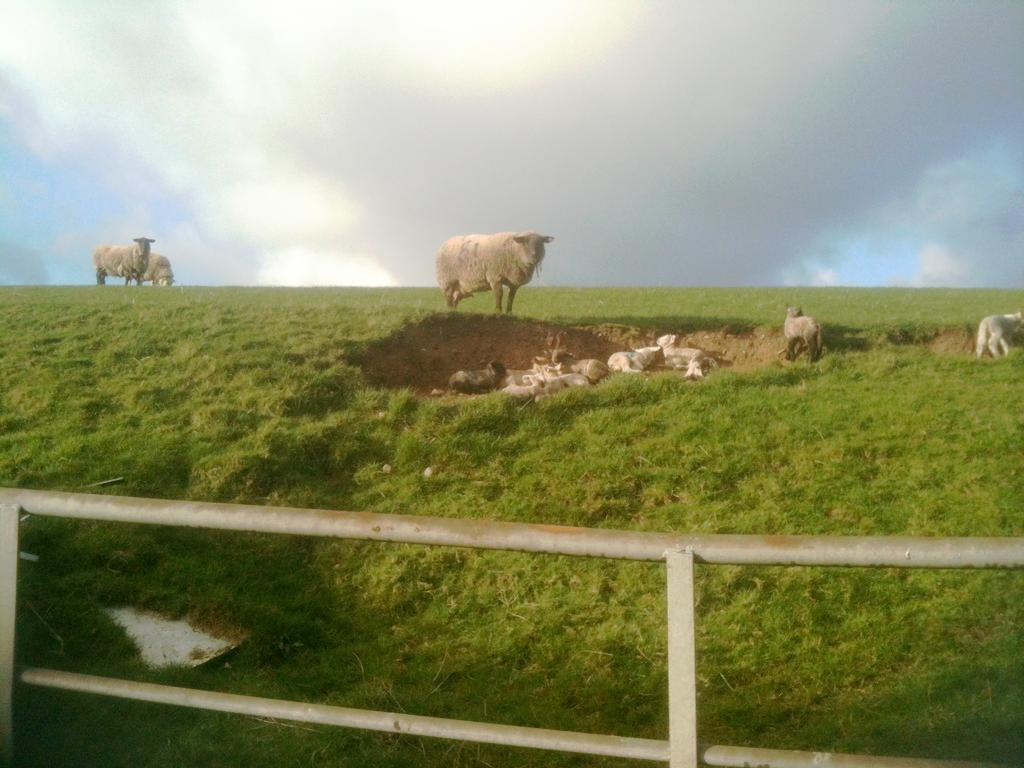Sheep: (428, 211, 560, 316), (90, 237, 156, 286), (786, 300, 824, 366), (976, 310, 1024, 360), (145, 256, 174, 284)
